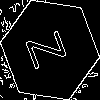Z: (25, 25, 76, 70)
